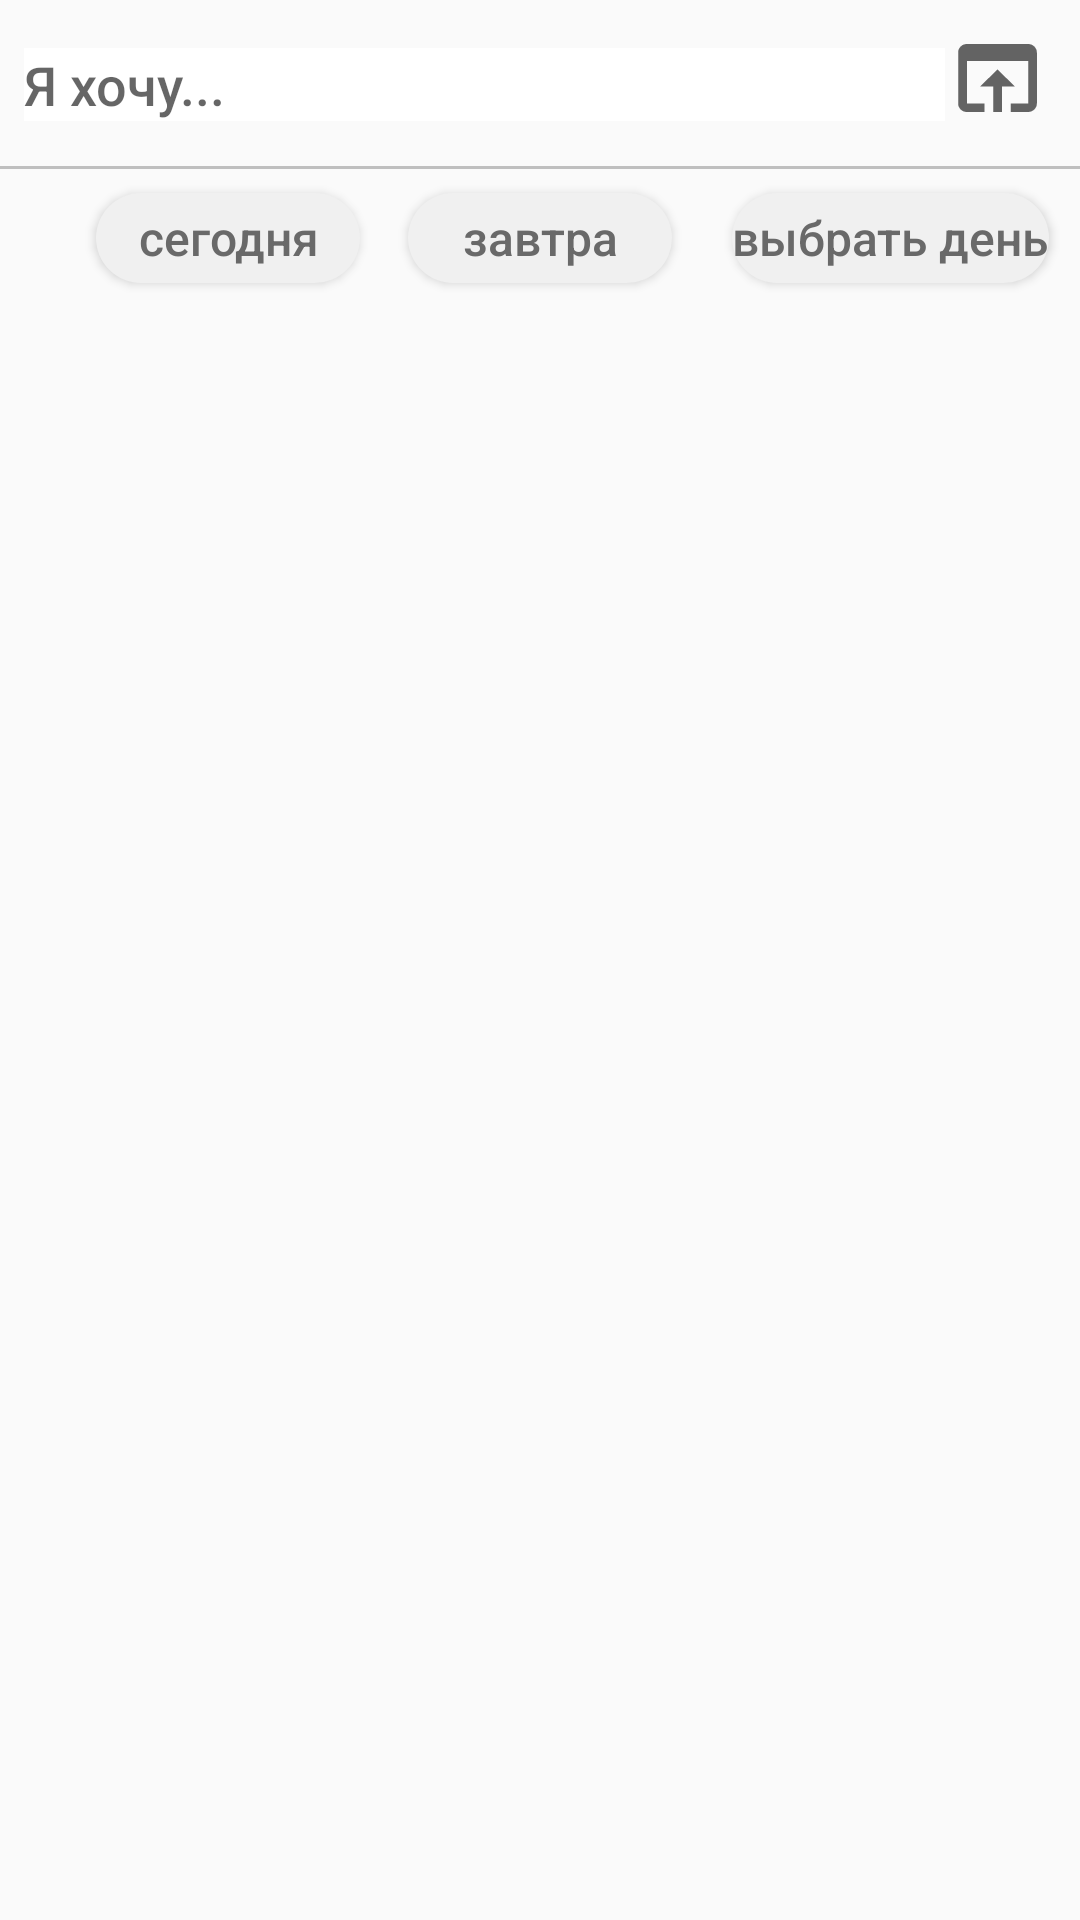

Named icons in this screenshot (1080px x 1920px) and their bounding boxes, (x1, y1, x2, y2):
send: (958, 44, 1037, 112)
